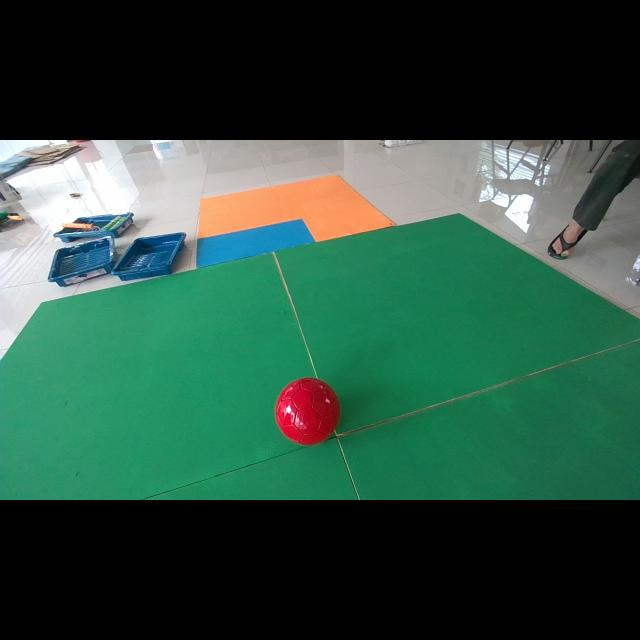R: (275, 378, 340, 445)
